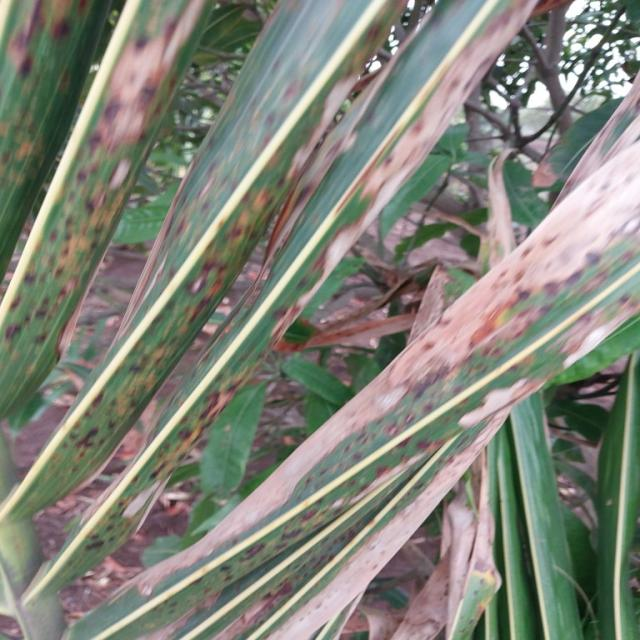gray leaf spot: (20, 0, 529, 599), (67, 139, 640, 640), (26, 0, 418, 516), (2, 0, 217, 410)
